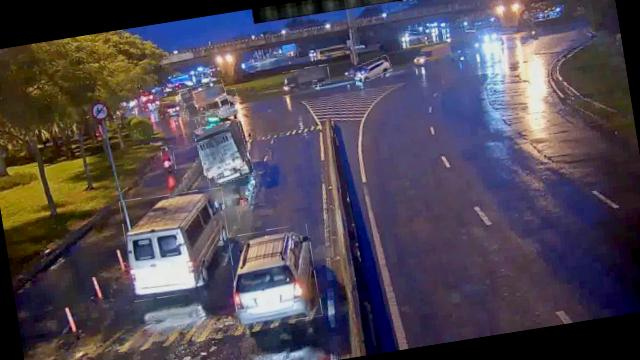Bike: (160, 145, 178, 174)
Bus: (118, 186, 236, 302)
Car: (225, 224, 322, 329), (357, 56, 393, 80), (158, 100, 184, 117)
Truck: (194, 118, 253, 186), (180, 79, 230, 119), (191, 88, 242, 127), (282, 64, 330, 90)
